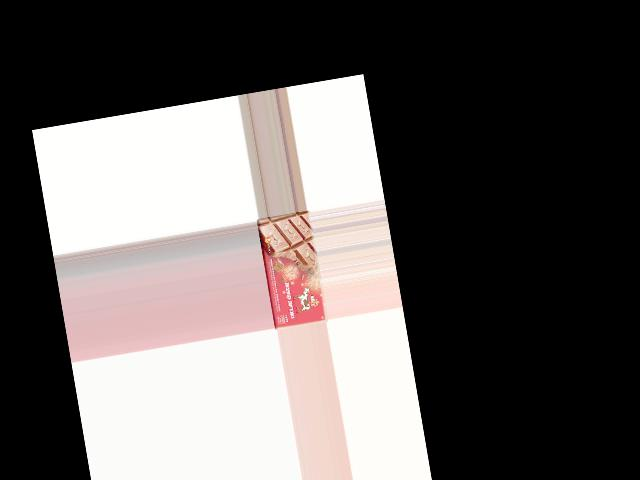chocolate: (256, 210, 327, 330)
